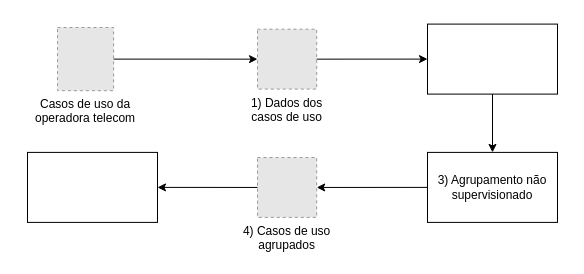
Image size: 584x274. Some labels were removed from this diagram. Grey dashed boxes stand in for pictures. Each missing label, with the centre of its shape:
"2) Pré-processamento dos dados" goes at [492,58].
"5) Visualização das relações e análise dos resultados" goes at [92,186].
